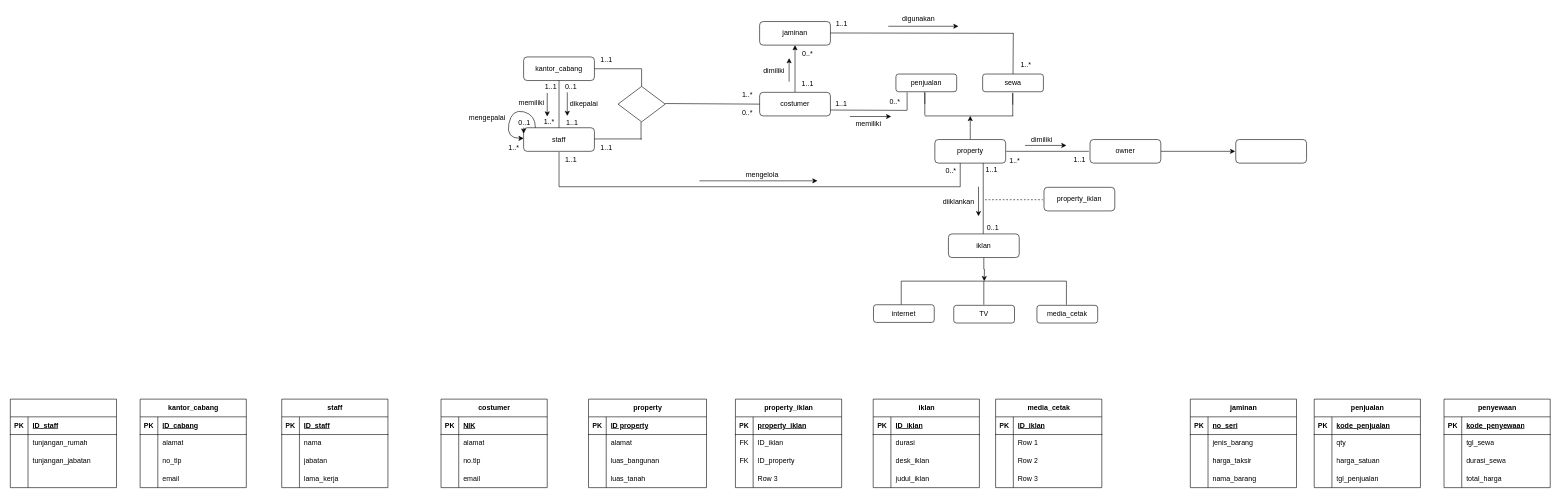
This 1561x498 diagram has some shape labels left out. Here are the shapes that lost their labels. From the top down, the box of each, then its label:
(617, 86, 665, 122): registrasi
(1235, 139, 1307, 163): CP
(10, 399, 117, 488): manager
